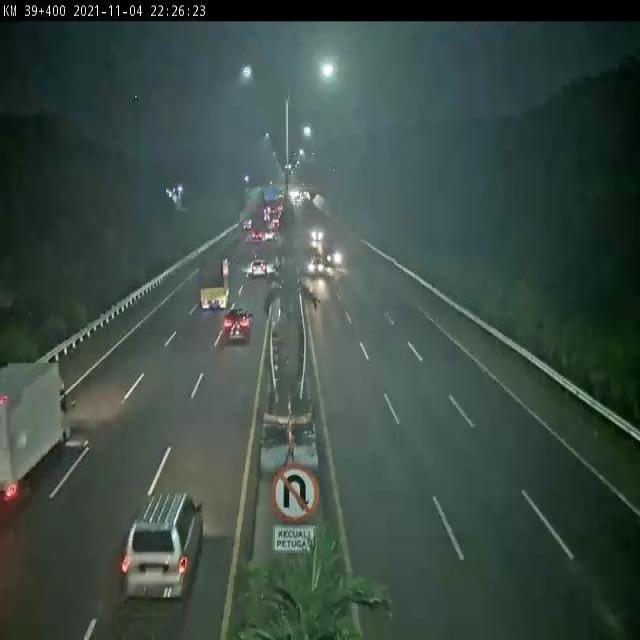car: (122, 492, 205, 605), (224, 310, 253, 346), (307, 247, 323, 274), (325, 244, 341, 267), (251, 259, 267, 277)
small truck: (199, 258, 229, 310)
truck-m-: (0, 360, 70, 504)
